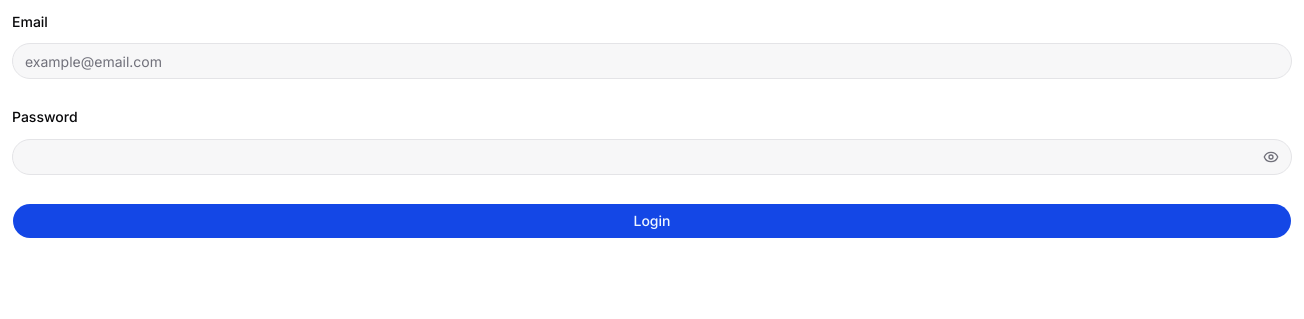
Test: LoginForm › Render › should shows error when submit with invalid email/password
Click the button "Login" at [652, 220], box [12, 202, 1292, 238]
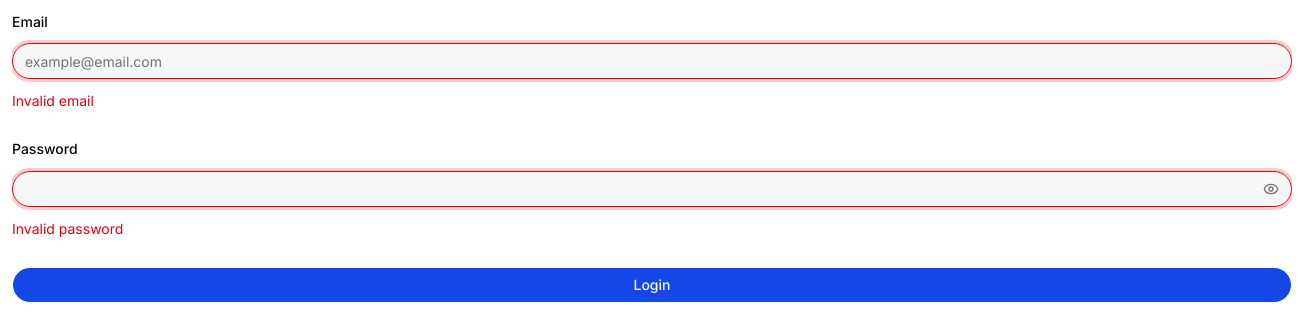
Check: the text "Invalid email" is shown, box [12, 92, 94, 109]
Check: the text "Invalid password" is shown, box [12, 220, 123, 236]
